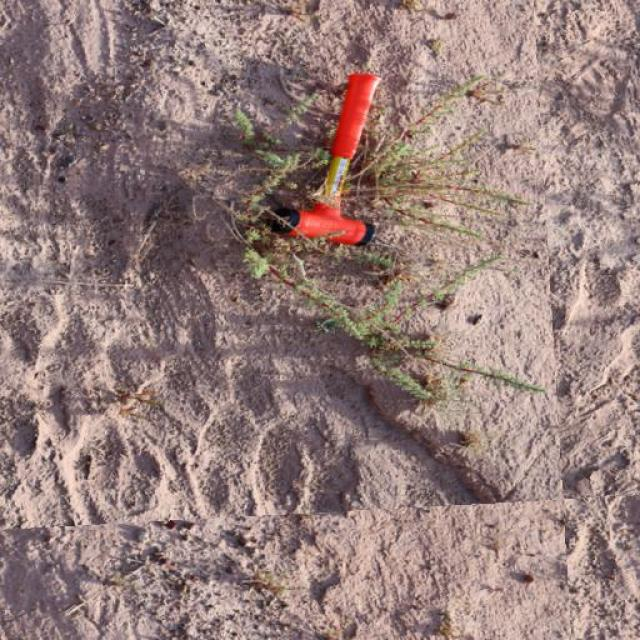mallet: (265, 70, 381, 246)
